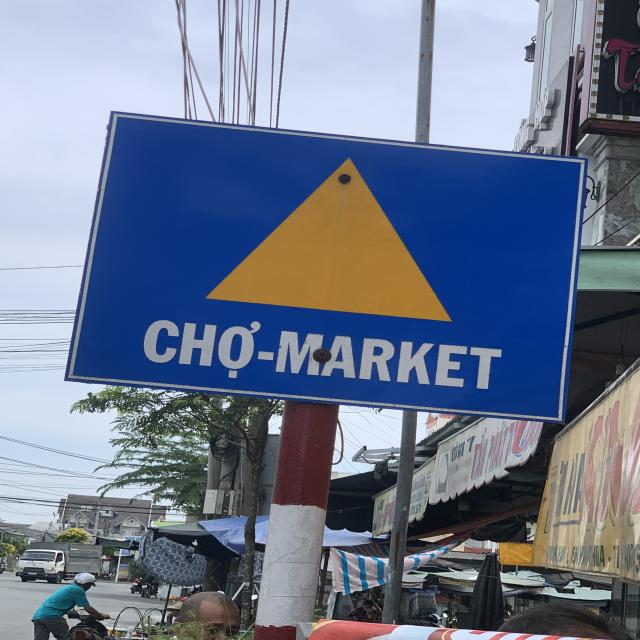Cho_Quay_Xe: (73, 112, 567, 416)
